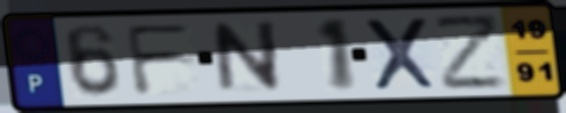1: (314, 16, 358, 95)
6: (61, 23, 122, 99)
F: (122, 21, 197, 98)
N: (210, 19, 285, 96)
X: (360, 15, 441, 93)
Z: (432, 12, 508, 93)
